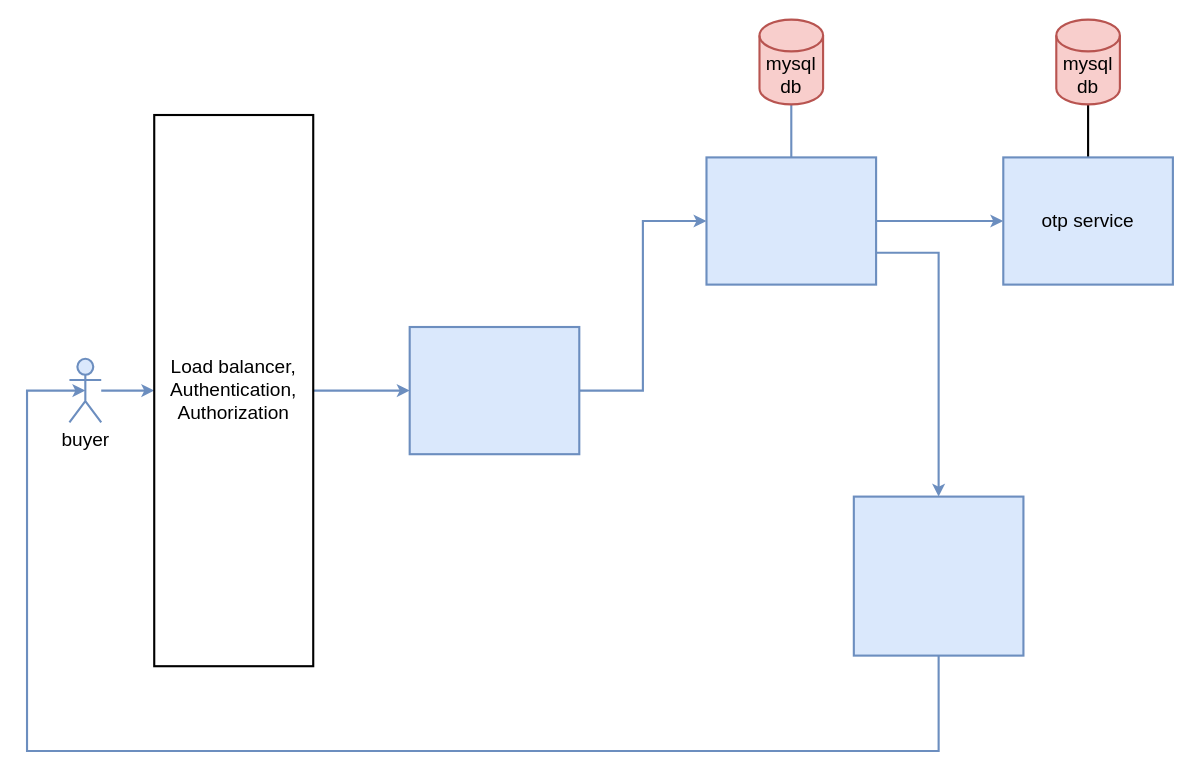
This 1191x778 diagram has some shape labels left out. The shapes that lost their labels are listed below. From the top down, each one's centre as x and y in pixels, then its label:
the point at 791,220: buyer service
the point at 494,390: inbound service
the point at 938,575: sms service
